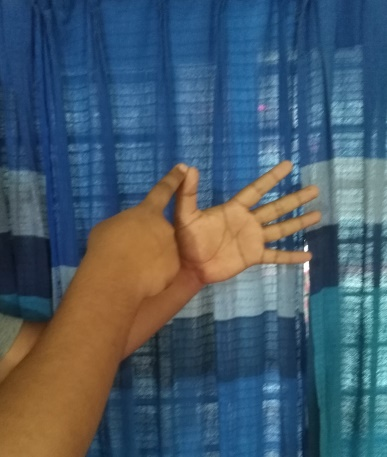a: (81, 161, 322, 269)
